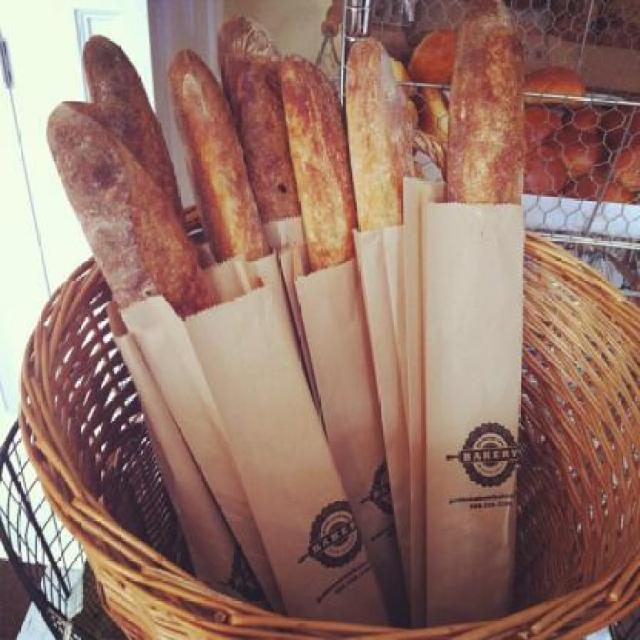Bread: (48, 6, 520, 320), (390, 23, 639, 211), (454, 2, 522, 620), (162, 53, 258, 262)
